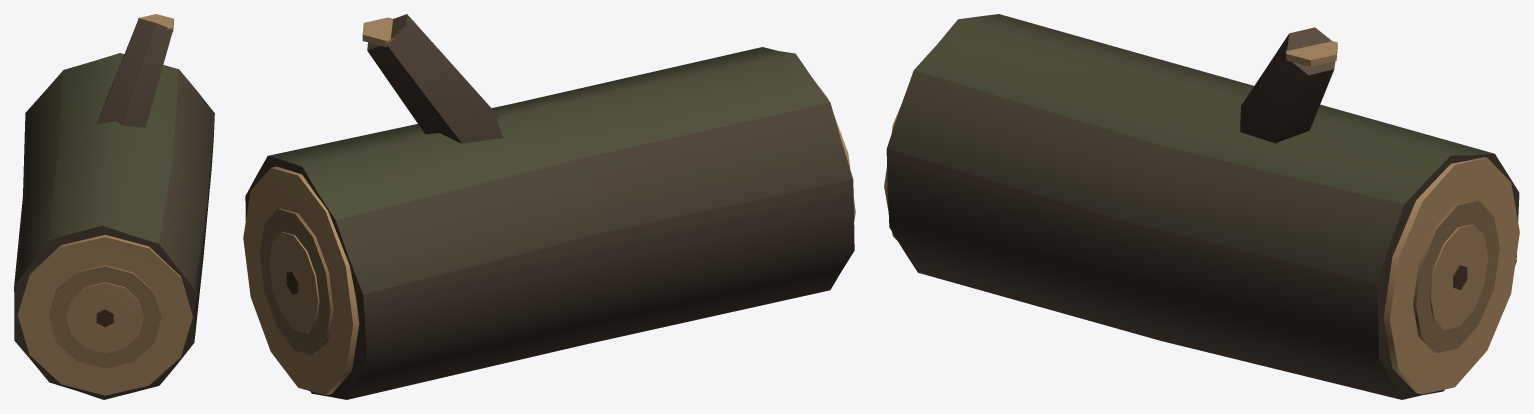
Rendered from ph_item_log.glb.
3 renders of one model, left to right at view 1: azimuth 30°, elevation 25°; view 2: azimuth 150°, elevation 25°; view 3: azimuth 270°, elevation 25°, orthographic. The views are drawn at different scales.
Parts seen in each view (by area): view 1: ph_item_log; view 2: ph_item_log; view 3: ph_item_log.
Boxes of the visible parts, left/top/right/bottom form: ph_item_log: left=14, top=14, right=214, bottom=399; ph_item_log: left=243, top=14, right=855, bottom=399; ph_item_log: left=884, top=14, right=1519, bottom=399.
Bounding box in the file's own units: 0.292 × 0.2139 × 0.3497.
